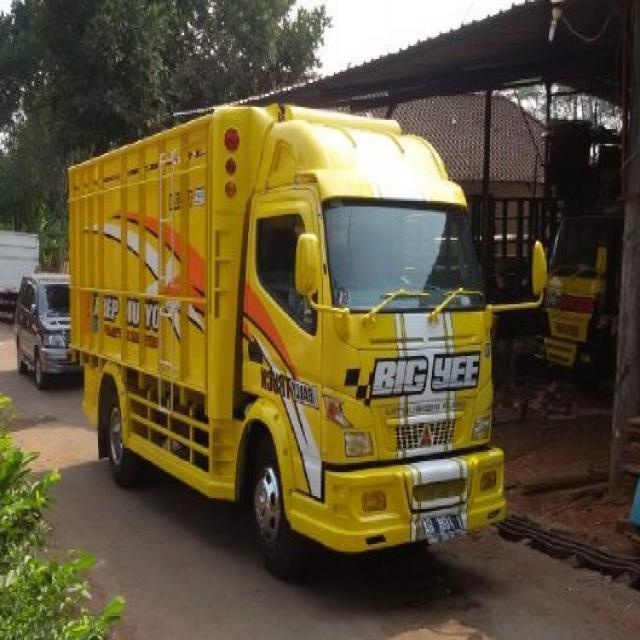Car: (8, 270, 80, 396)
Truck: (64, 87, 546, 577)
